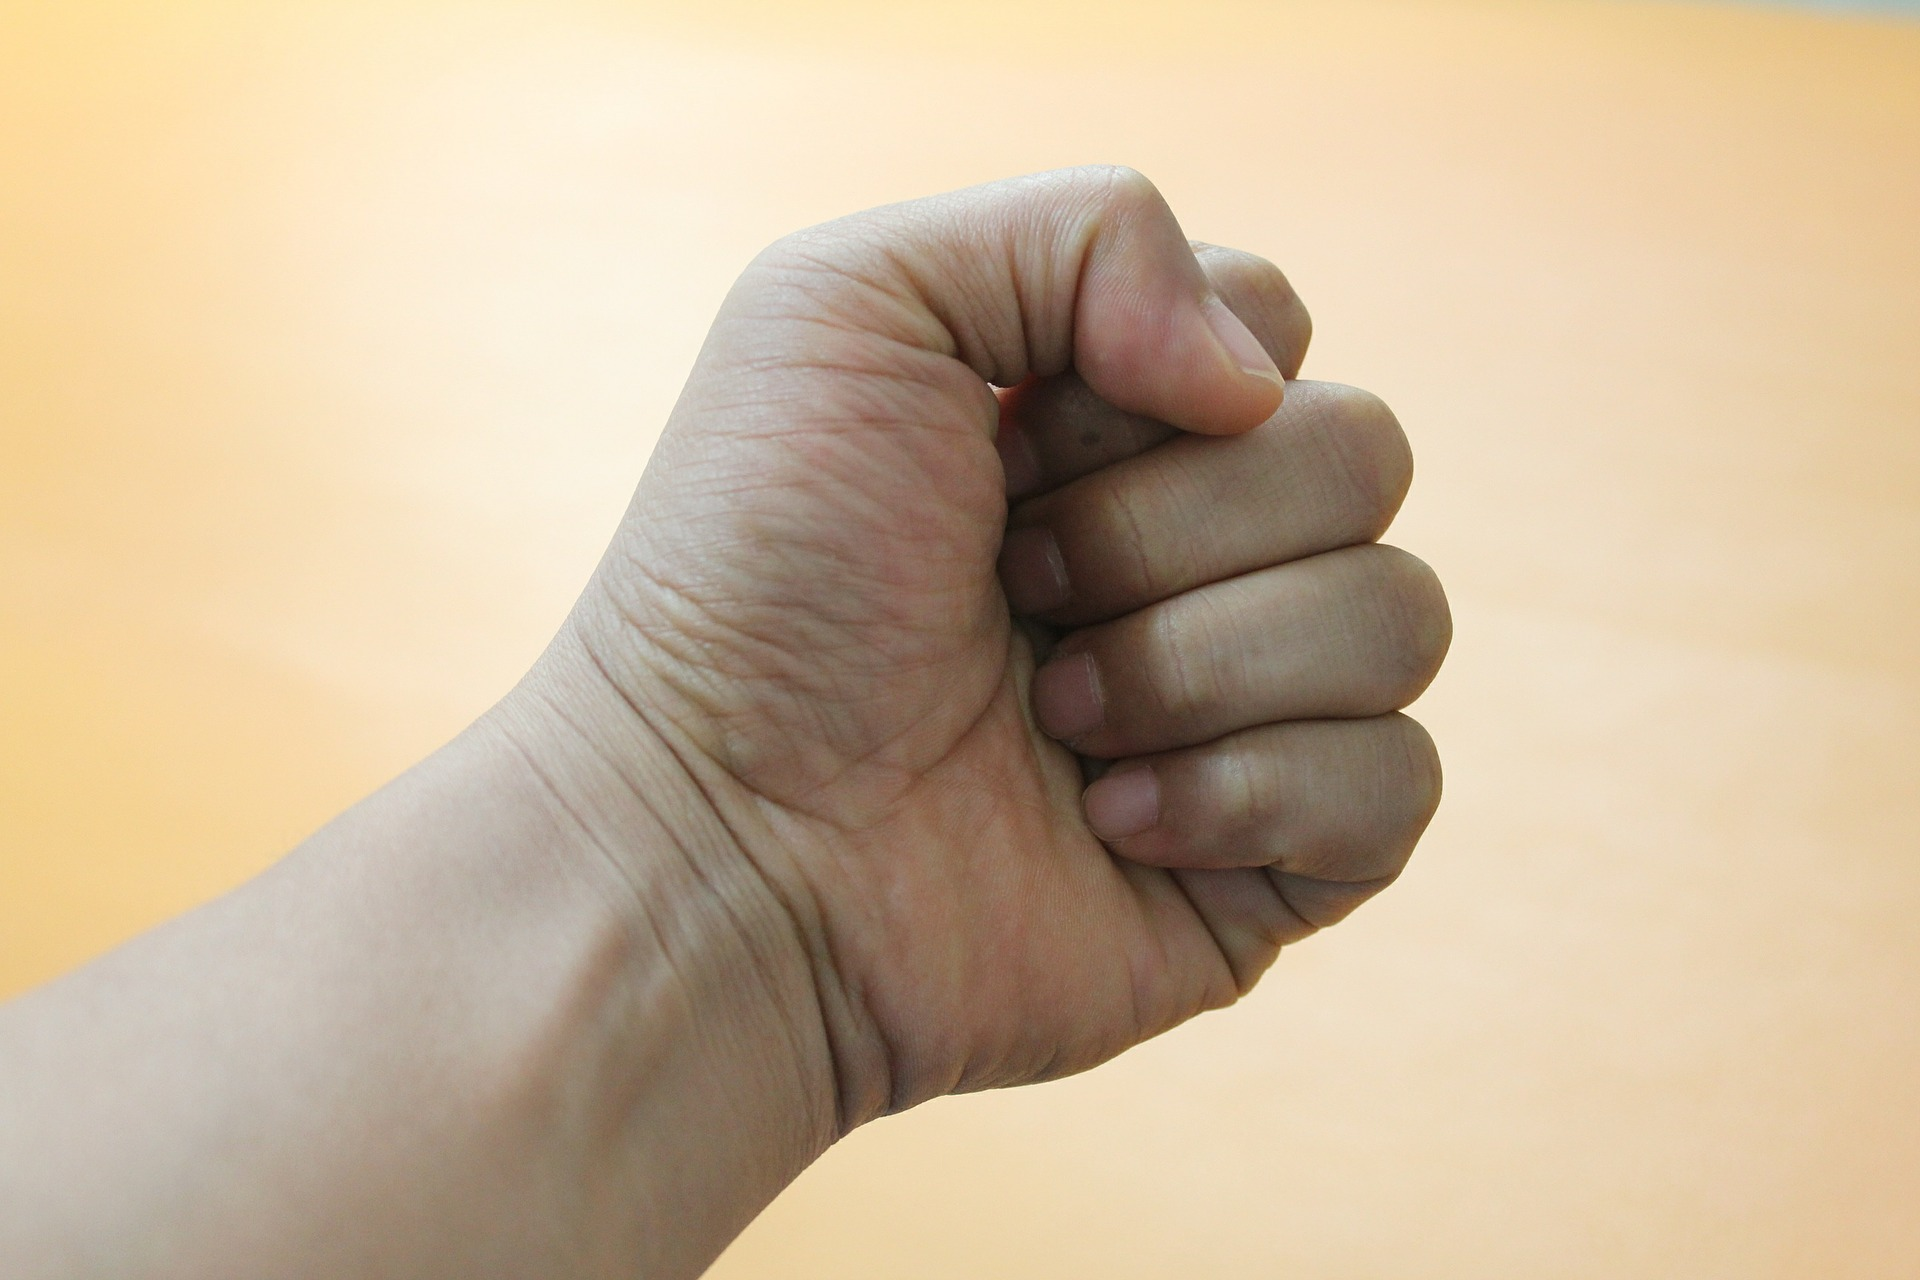fist: (671, 227, 1359, 1086)
